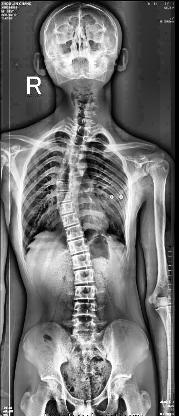Vertebrae: (53, 214, 89, 226), (68, 304, 100, 316), (69, 320, 99, 332), (68, 256, 98, 268), (63, 242, 99, 252), (58, 228, 94, 238), (47, 203, 83, 213), (62, 142, 92, 154), (69, 288, 101, 298), (69, 272, 101, 282), (50, 191, 80, 201), (60, 154, 90, 164), (52, 180, 78, 190), (68, 134, 94, 144), (55, 170, 83, 178), (58, 160, 86, 168)
